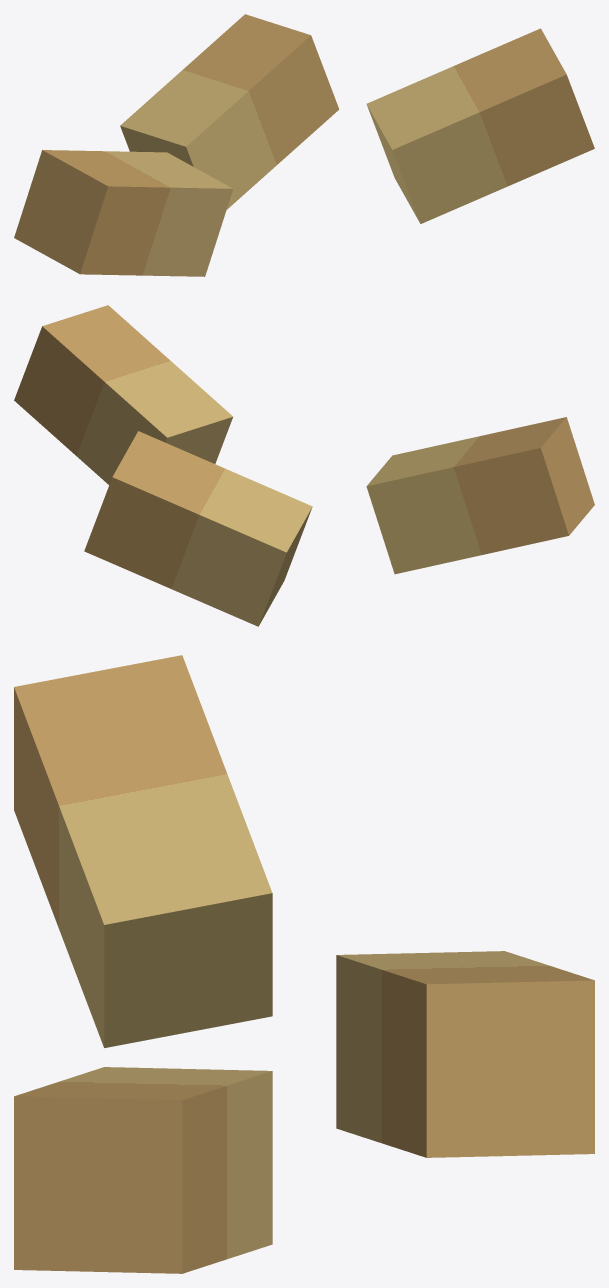
The model's file is cucumber-seeds.gltf.
3 views of the same model, one above another, from view 1: azimuth 30°, elevation 25°; view 2: azimuth 150°, elevation 25°; view 3: azimuth 270°, elevation 25° (orthographic). The views are drawn at different scales.
Visible parts, largest first — view 1: cube (×3); view 2: cube (×3); view 3: cube (×3).
Boxes of the visible parts, <box> form: cube (×3): <box>14,14,594,276</box>; cube (×3): <box>14,305,594,626</box>; cube (×3): <box>14,655,594,1273</box>.
Bounding box in the file's own units: 0.4206 × 0.1172 × 0.2084.
Materials: 1 (1 with a texture image).
